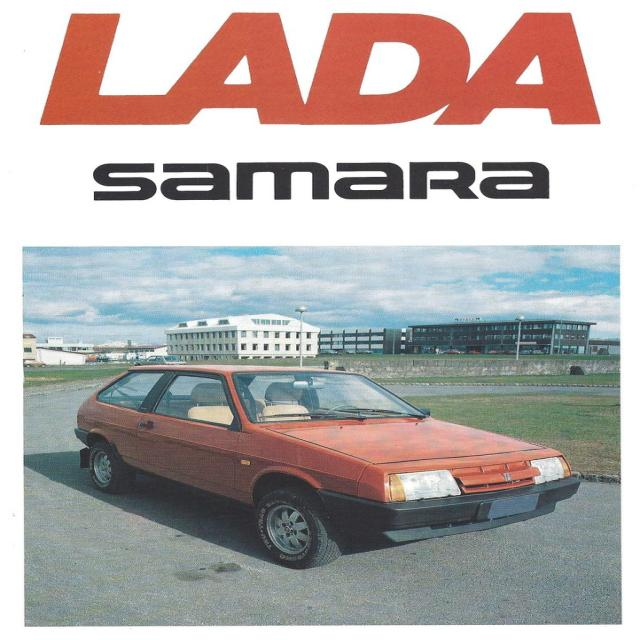car: (65, 362, 586, 569)
